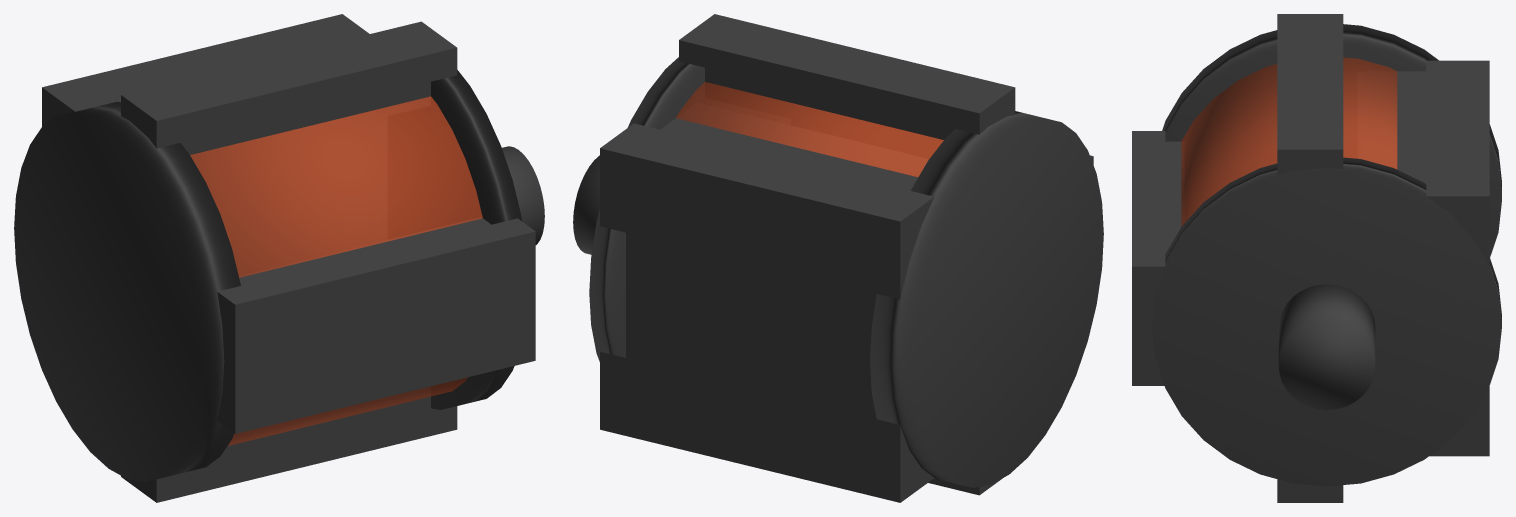
Rendered from motor.glb.
3 views of the same model, side by side, from view 1: azimuth 30°, elevation 25°; view 2: azimuth 150°, elevation 25°; view 3: azimuth 270°, elevation 25° (orthographic). The views are drawn at different scales.
Visible parts, largest first — view 1: Cylinder.006, Cube.010, Cylinder.005, Cube.009, Cube.001, Cylinder.008, Cube.002, Cylinder.009; view 2: Cube.009, Cylinder.006, Cube.001, Cylinder.005, Cylinder.008, Cylinder.009, Cube.010; view 3: Cylinder.008, Cube.009, Cylinder.006, Cylinder.005, Cube.001, Cylinder.009, Cube.010, Cube.002.
Boxes of the visible parts, x1,y1,x2,y2 form: Cylinder.006: (14, 101, 240, 481); Cube.010: (217, 217, 535, 433); Cylinder.005: (190, 96, 482, 445); Cube.009: (42, 14, 387, 275); Cube.001: (121, 21, 457, 162); Cylinder.008: (388, 70, 522, 409); Cube.002: (121, 386, 457, 502); Cylinder.009: (502, 146, 544, 244); Cube.009: (600, 103, 934, 502); Cylinder.006: (870, 111, 1103, 487); Cube.001: (679, 14, 1015, 153); Cylinder.005: (676, 82, 943, 176); Cylinder.008: (589, 57, 790, 361); Cylinder.009: (573, 155, 599, 254); Cube.010: (791, 119, 1093, 164); Cylinder.008: (1152, 157, 1501, 486); Cube.009: (1358, 60, 1489, 456); Cylinder.006: (1162, 24, 1501, 256); Cylinder.005: (1181, 57, 1397, 226); Cube.001: (1277, 14, 1343, 174); Cylinder.009: (1278, 284, 1375, 409); Cube.010: (1132, 131, 1184, 385); Cube.002: (1277, 479, 1343, 502).
Size of the model in its own units: 0.2728 by 0.2428 by 0.2304.
